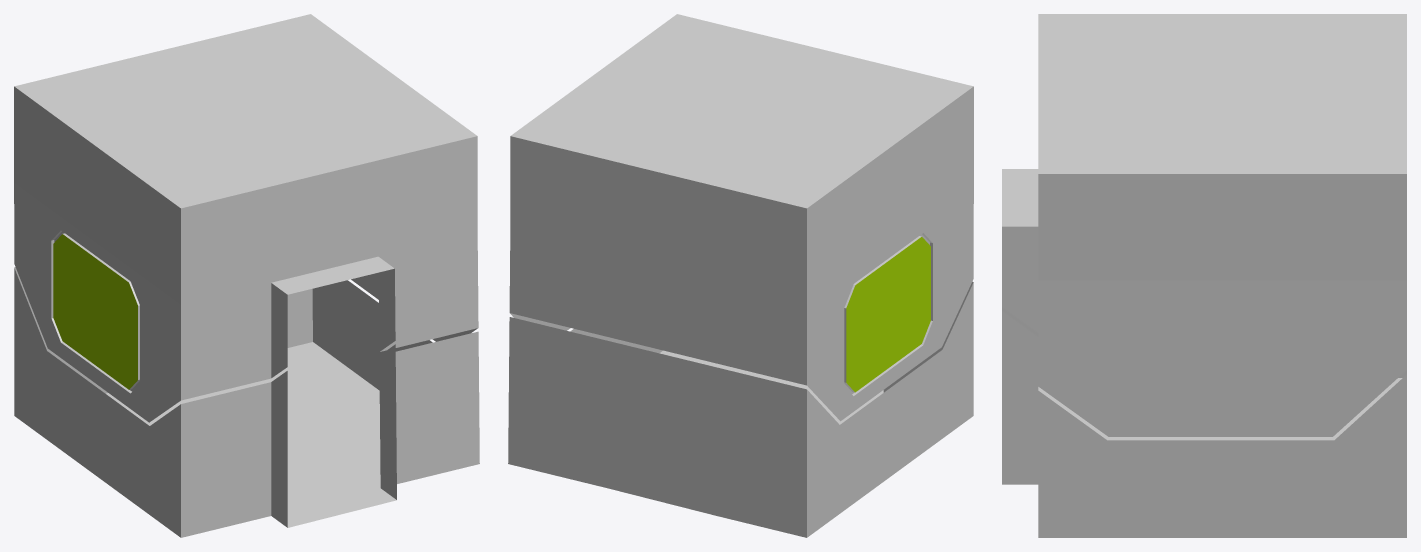
The model's file is FevravrRoom2.fbx.
3 views of the same model, side by side, from view 1: azimuth 30°, elevation 25°; view 2: azimuth 150°, elevation 25°; view 3: azimuth 270°, elevation 25° (orthographic). The views are drawn at different scales.
Parts seen in each view (by area): view 1: Plane.001; view 2: Plane.001; view 3: Plane.001.
Part boxes in pixels (x1,y1,x2,y2): Plane.001: (14, 14, 479, 537); Plane.001: (508, 14, 973, 537); Plane.001: (1002, 14, 1406, 537).
Size of the model in its own units: 1256 by 1323 by 1334.
